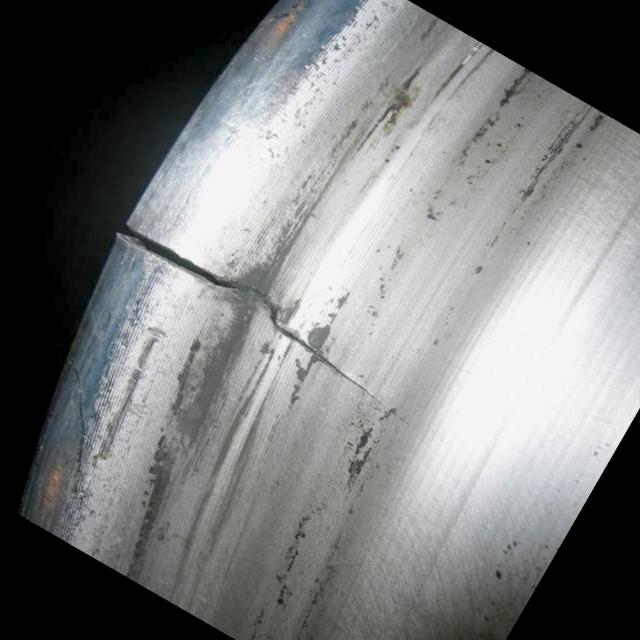defect: (111, 221, 433, 444)
